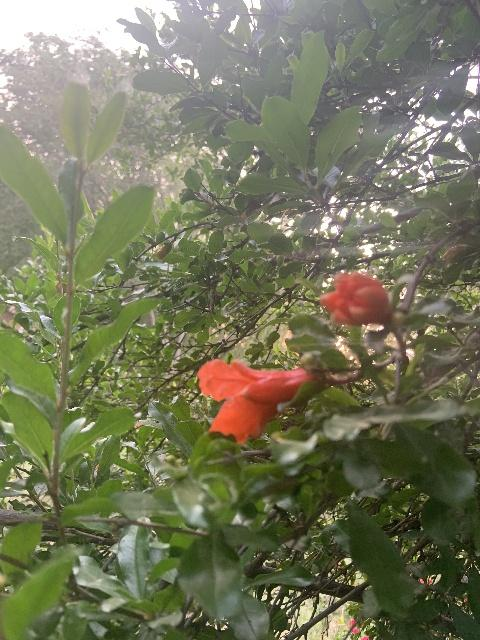flower: (197, 359, 313, 444), (319, 272, 392, 326)
